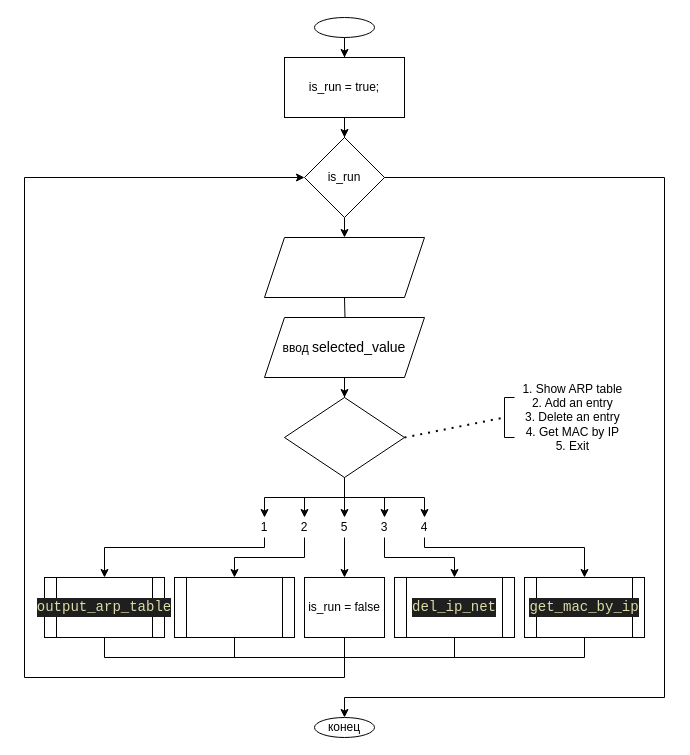
This 690x755 diagram has some shape labels left out. Here are the shapes that lost their labels. From the top down, the centre of each, then its label:
point 344,27: начало
point 344,267: вывод меню
point 344,437: selected_value
point 234,607: add_ip_net
